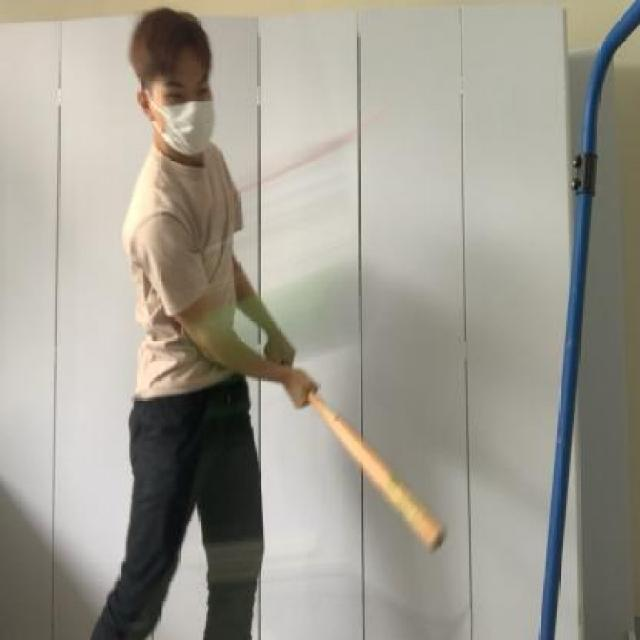baseball: (188, 255, 390, 393)
